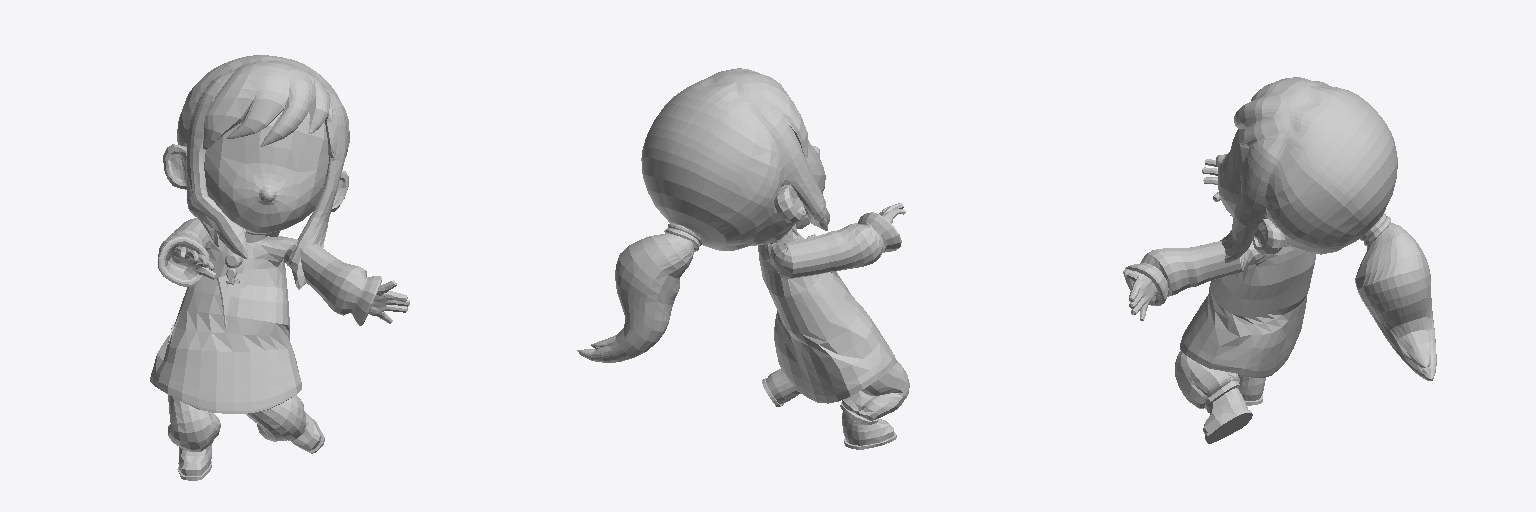
3 renders of one model, left to right at view 1: azimuth 30°, elevation 25°; view 2: azimuth 150°, elevation 25°; view 3: azimuth 270°, elevation 25°, orthographic.
Parts seen in each view (by area): view 1: hatkidbody.png, hatkidhair.png, hatkidbody; view 2: hatkidhair.png, hatkidbody.png, hatkidhair, hatkidbody; view 3: hatkidhair.png, hatkidbody.png, hatkidhair, hatkidbody.
Boxes of the visible parts, box(x1,y1,x2,y2) form: hatkidbody.png: box(150, 111, 409, 413); hatkidhair.png: box(177, 55, 349, 289); hatkidbody: box(168, 394, 324, 480); hatkidhair.png: box(641, 68, 829, 250); hatkidbody.png: box(750, 140, 905, 403); hatkidhair: box(577, 223, 701, 362); hatkidbody: box(762, 361, 909, 449); hatkidhair.png: box(1220, 77, 1397, 262); hatkidbody.png: box(1123, 129, 1315, 377); hatkidhair: box(1355, 213, 1436, 380); hatkidbody: box(1175, 351, 1265, 443).
Bounding box in the file's own units: 43.32 × 64.69 × 50.92.